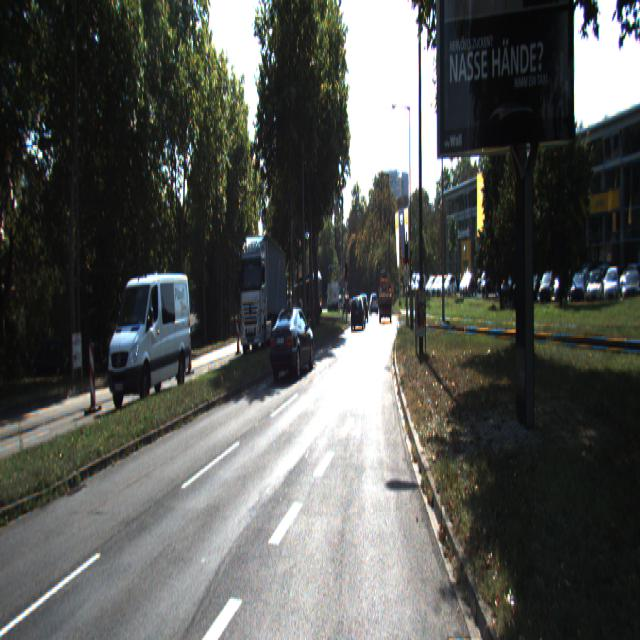Car: (106, 267, 193, 409), (240, 235, 288, 356), (268, 305, 316, 379), (379, 277, 392, 322), (351, 297, 366, 331)
